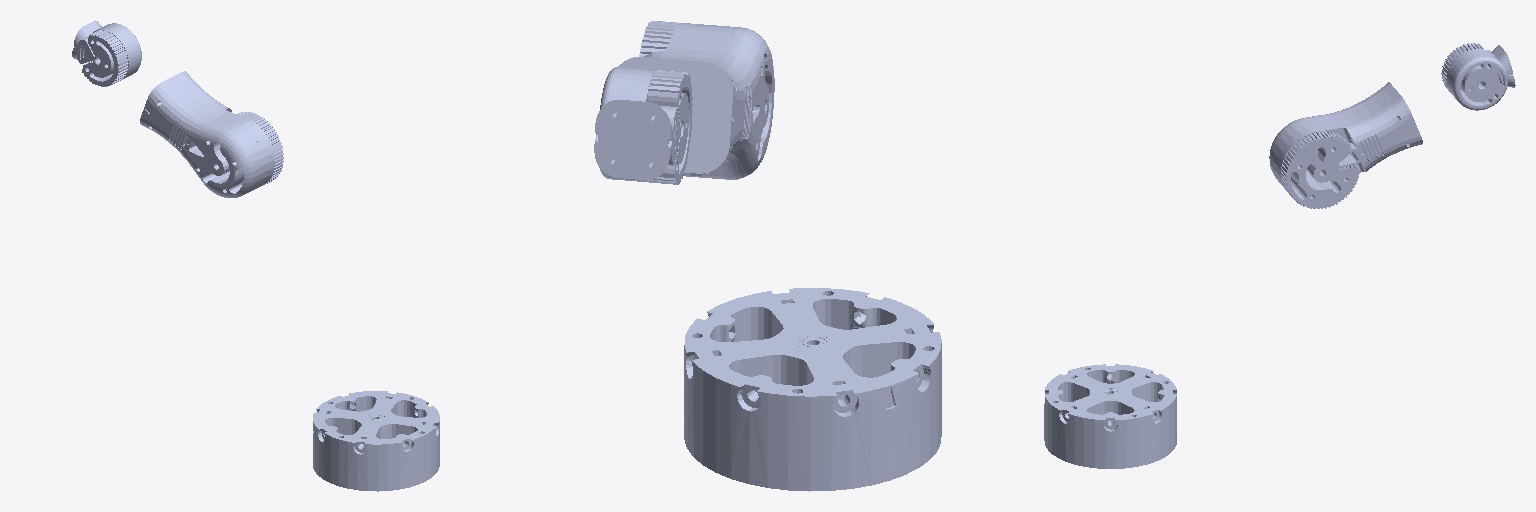
URDF robot description (desktop-arm):
<?xml version="1.0" encoding="utf-8"?>
<!-- This URDF was automatically created by SolidWorks to URDF Exporter! Originally created by [author] ([email redacted]) 
     Commit Version: 1.6.0-4-g7f85cfe  Build Version: 1.6.7995.38578
     For more information, please see http://wiki.ros.org/sw_urdf_exporter -->
<robot name="desktop-arm" xmlns:xacro="http://ros.org/wiki/xacro">
  <link name="base_link">
    <inertial>
      <origin xyz="0.032063 -0.15615 0.060422" rpy="0 0 0" />
      <mass value="0.64235" />
      <inertia ixx="0.0015157" ixy="-2.584E-07" ixz="-1.4498E-07" iyy="0.0015152" iyz="6.003E-08" izz="0.002624" />
    </inertial>
    <visual>
      <origin xyz="0 0 0" rpy="0 0 0" />
      <geometry>
        <mesh filename="package://desktop_arm_description/meshes/base_link.STL" />
      </geometry>
      <material name="">
        <color rgba="0.79216 0.81961 0.93333 1" />
      </material>
    </visual>
    <collision>
      <origin xyz="0 0 0" rpy="0 0 0" />
      <geometry>
        <mesh filename="package://desktop_arm_description/meshes/base_link.STL" />
      </geometry>
    </collision>
  </link>
  <link name="link_1">
    <inertial>
      <origin xyz="1.32150942671883E-05 0.0840712343150202 -0.000226674153144618" rpy="0 0 0" />
      <mass value="2.06098242470071" />
      <inertia ixx="0.00723151267076472" ixy="8.50060421303669E-08" ixz="-0.000493369007400085" iyy="0.00643124857029598" iyz="8.77055790859003E-07" izz="0.00833376606191396" />
    </inertial>
    <visual>
      <origin xyz="0 0 0" rpy="0 0 0" />
      <geometry>
        <mesh filename="package://desktop_arm_description/meshes/link_1.STL" />
      </geometry>
      <material name="">
        <color rgba="0.792156862745098 0.819607843137255 0.933333333333333 1" />
      </material>
    </visual>
    <collision>
      <origin xyz="0 0 0" rpy="0 0 0" />
      <geometry>
        <mesh filename="package://desktop_arm_description/meshes/link_1.STL" />
      </geometry>
    </collision>
  </link>
  <joint name="joint_1" type="revolute">
    <origin xyz="0 0 0" rpy="1.5707963267949 0 0.70838946909971" />
    <parent link="base_link" />
    <child link="link_1" />
    <axis xyz="0 1 0" />
    <limit lower="-1.3" upper="1.3" effort="0" velocity="0" />
  </joint>
  <link name="link_2">
    <inertial>
      <origin xyz="0.01789 0.058654 -0.05071" rpy="0 0 0" />
      <mass value="1.9263" />
      <inertia ixx="0.0047439" ixy="-0.00037569" ixz="0.00028127" iyy="0.0038445" iyz="0.00096517" izz="0.0041374" />
    </inertial>
    <visual>
      <origin xyz="0 0 0" rpy="0 0 0" />
      <geometry>
        <mesh filename="package://desktop_arm_description/meshes/link_2.STL" />
      </geometry>
      <material name="">
        <color rgba="0.79216 0.81961 0.93333 1" />
      </material>
    </visual>
    <collision>
      <origin xyz="0 0 0" rpy="0 0 0" />
      <geometry>
        <mesh filename="package://desktop_arm_description/meshes/link_2.STL" />
      </geometry>
    </collision>
  </link>
  <joint name="joint_2" type="revolute">
    <origin xyz="0 0.1655 0" rpy="0.288567690879059 -0.0158462661982318 0.10895820907763" />
    <parent link="link_1" />
    <child link="link_2" />
    <axis xyz="0.934125217802764 0 0.356945482482884" />
    <limit lower="-1.3" upper="1.3" effort="0" velocity="0" />
  </joint>
  <link name="link_3">
    <inertial>
      <origin xyz="0.0139481789637224 0.0146668632687502 -0.0359246194913087" rpy="0 0 0" />
      <mass value="0.725230105179457" />
      <inertia ixx="0.00179957485676987" ixy="-0.000147553492540297" ixz="0.000456755493645833" iyy="0.00154110709734523" iyz="0.00038828009924826" izz="0.000772747821956818" />
    </inertial>
    <visual>
      <origin xyz="0 0 0" rpy="0 0 0" />
      <geometry>
        <mesh filename="package://desktop_arm_description/meshes/link_3.STL" />
      </geometry>
      <material name="">
        <color rgba="0.792156862745098 0.819607843137255 0.933333333333333 1" />
      </material>
    </visual>
    <collision>
      <origin xyz="0 0 0" rpy="0 0 0" />
      <geometry>
        <mesh filename="package://desktop_arm_description/meshes/link_3.STL" />
      </geometry>
    </collision>
  </link>
  <joint name="joint_3" type="revolute">
    <origin xyz="0.0533123755144546 0.163058763880744 -0.139518320956508" rpy="-0.28856769087906 -0.0158462661982266 -0.10895820907763" />
    <parent link="link_2" />
    <child link="link_3" />
    <axis xyz="0.934125217802763 0 0.356945482482886" />
    <limit lower="-1.3" upper="1.3" effort="0" velocity="0" />
  </joint>
  <link name="link_4">
    <inertial>
      <origin xyz="0.0184305955320793 0.0223219439403024 -0.0554419139160314" rpy="0 0 0" />
      <mass value="0.332133737054409" />
      <inertia ixx="0.000492451112757706" ixy="-2.8044250164716E-05" ixz="6.1771366365912E-05" iyy="0.000556523835973434" iyz="0.000103934198616861" izz="0.00036921676282899" />
    </inertial>
    <visual>
      <origin xyz="0 0 0" rpy="0 0 0" />
      <geometry>
        <mesh filename="package://desktop_arm_description/meshes/link_4.STL" />
      </geometry>
      <material name="">
        <color rgba="0.792156862745098 0.819607843137255 0.933333333333333 1" />
      </material>
    </visual>
    <collision>
      <origin xyz="0 0 0" rpy="0 0 0" />
      <geometry>
        <mesh filename="package://desktop_arm_description/meshes/link_4.STL" />
      </geometry>
    </collision>
  </link>
  <joint name="joint_4" type="revolute">
    <origin xyz="0.039132 0.040964 -0.10092" rpy="-0.81888 0.68462 3.0043" />
    <parent link="link_3" />
    <child link="link_4" />
    <axis xyz="0.33384 0.35396 -0.87365" />
    <limit lower="-1.3" upper="1.3" effort="0" velocity="0" />
  </joint>
  <link name="link_5">
    <inertial>
      <origin xyz="0.0003711 -0.0019484 -0.0032986" rpy="0 0 0" />
      <mass value="0.15863" />
      <inertia ixx="0.0001012" ixy="-3.4148E-06" ixz="1.3247E-05" iyy="6.4478E-05" iyz="-7.7884E-06" izz="6.1328E-05" />
    </inertial>
    <visual>
      <origin xyz="0 0 0" rpy="0 0 0" />
      <geometry>
        <mesh filename="package://desktop_arm_description/meshes/link_5.STL" />
      </geometry>
      <material name="">
        <color rgba="0.79216 0.81961 0.93333 1" />
      </material>
    </visual>
    <collision>
      <origin xyz="0 0 0" rpy="0 0 0" />
      <geometry>
        <mesh filename="package://desktop_arm_description/meshes/link_5.STL" />
      </geometry>
    </collision>
  </link>
  <joint name="joint_5" type="revolute">
    <origin xyz="0.035644 0.037793 -0.09328" rpy="0.99317 -0.27115 0.21303" />
    <parent link="link_4" />
    <child link="link_5" />
    <axis xyz="0.9426 -0.13293 0.30633" />
    <limit lower="-1.3" upper="1.3" effort="0" velocity="0" />
  </joint>
  <link name="end_effector">
    <inertial>
      <origin xyz="0.14241 0.38652 -0.15071" rpy="0 0 0" />
      <mass value="0.069485" />
      <inertia ixx="1.6525E-05" ixy="2.5479E-06" ixz="-8.6292E-07" iyy="2.184E-05" iyz="-5.1516E-06" izz="1.5862E-05" />
    </inertial>
    <visual>
      <origin xyz="0 0 0" rpy="0 0 0" />
      <geometry>
        <mesh filename="package://desktop_arm_description/meshes/end_effector.STL" />
      </geometry>
      <material name="">
        <color rgba="0.79216 0.81961 0.93333 1" />
      </material>
    </visual>
    <collision>
      <origin xyz="0 0 0" rpy="0 0 0" />
      <geometry>
        <mesh filename="package://desktop_arm_description/meshes/end_effector.STL" />
      </geometry>
    </collision>
  </link>
  <joint name="joint_6" type="revolute">
    <origin xyz="0.17605 0.29813 -0.29218" rpy="1.1615 0.33095 -2.9233" />
    <parent link="link_5" />
    <child link="end_effector" />
    <axis xyz="0 0 0" />
    <limit lower="-1.3" upper="1.3" effort="0" velocity="0" />
  </joint>
  <link name="tool0"/>
  <joint name="joint6-tool0" type="fixed">
    <parent link="end_effector"/>
    <child link="tool0"/>
    <origin rpy="0 0.1 0" xyz="0 0 0"/>
  </joint>
  <link name="base"/>
  <joint name="base_link-base" type="fixed">
    <origin rpy="0 0 0" xyz="0 0 0"/>
    <parent link="base_link"/>
    <child link="base"/>
  </joint>
</robot>

--- Render facts (derived) ---
Views: 3 orthographic renders of the robot side by side, from view 1: azimuth 30°, elevation 25°; view 2: azimuth 150°, elevation 25°; view 3: azimuth 270°, elevation 25°.
Model desktop-arm with 9 links and 8 joints (6 revolute, 2 fixed), rooted at base_link, posed all joints at 0.
Links seen in each view (by area): view 1: base_link, link_3, link_5; view 2: base_link, link_3, link_5; view 3: base_link, link_3, link_5.
Boxes of the visible links, x1,y1,x2,y2 form: base_link: (313,391,439,491); link_3: (140,71,283,197); link_5: (72,20,141,86); base_link: (684,288,941,491); link_3: (618,21,774,179); link_5: (594,67,692,184); base_link: (1044,364,1176,468); link_3: (1269,82,1422,208); link_5: (1441,43,1515,110).
Bounding box of the posed robot: 0.2494 × 0.5678 × 0.4569 m (x, y, z).
3 mesh visuals loaded from 7 distinct referenced files (3 binary STL); not drawn: 4 (reference not matched to a file when rendering).